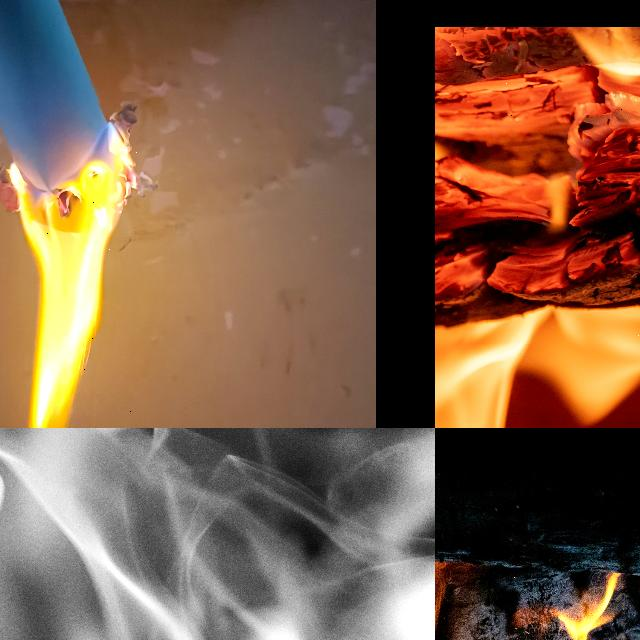fire: (435, 26, 640, 325), (0, 103, 155, 428), (558, 576, 619, 640)
smoke: (0, 428, 331, 640)
